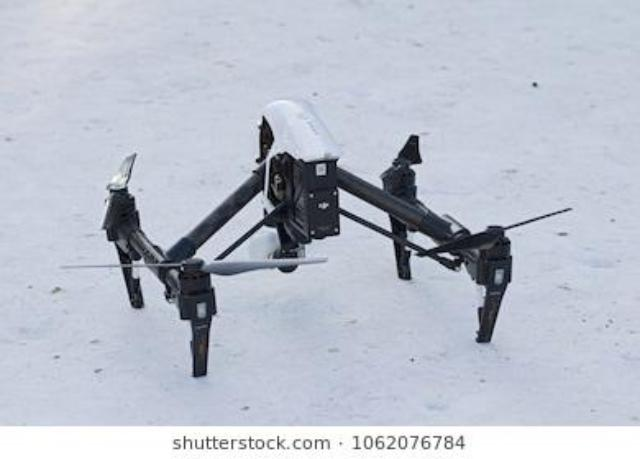drone: (53, 88, 584, 396)
